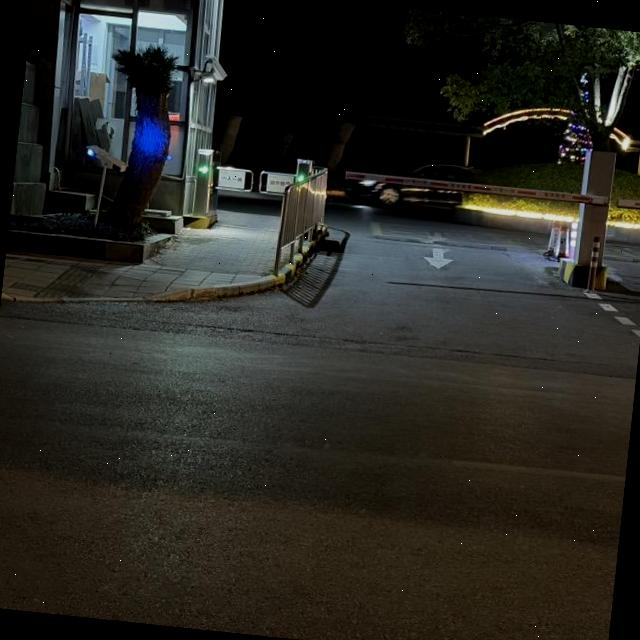curb: (0, 239, 315, 303), (5, 229, 169, 262)
